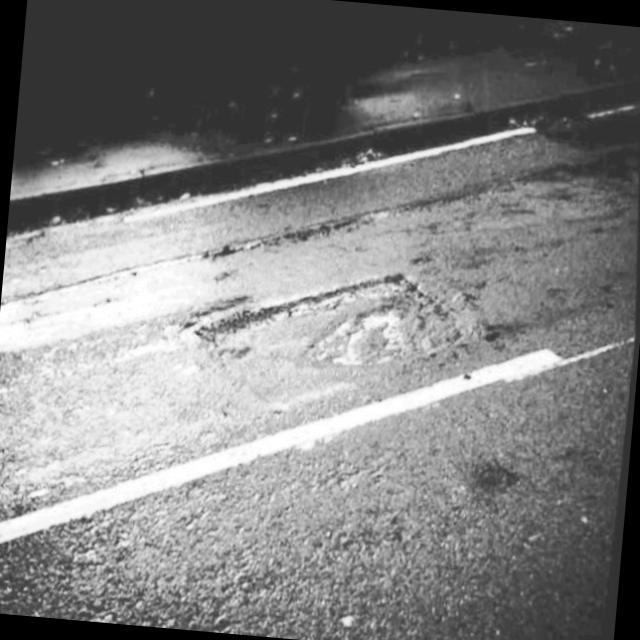Pothole: (188, 235, 467, 396), (474, 451, 526, 508)
